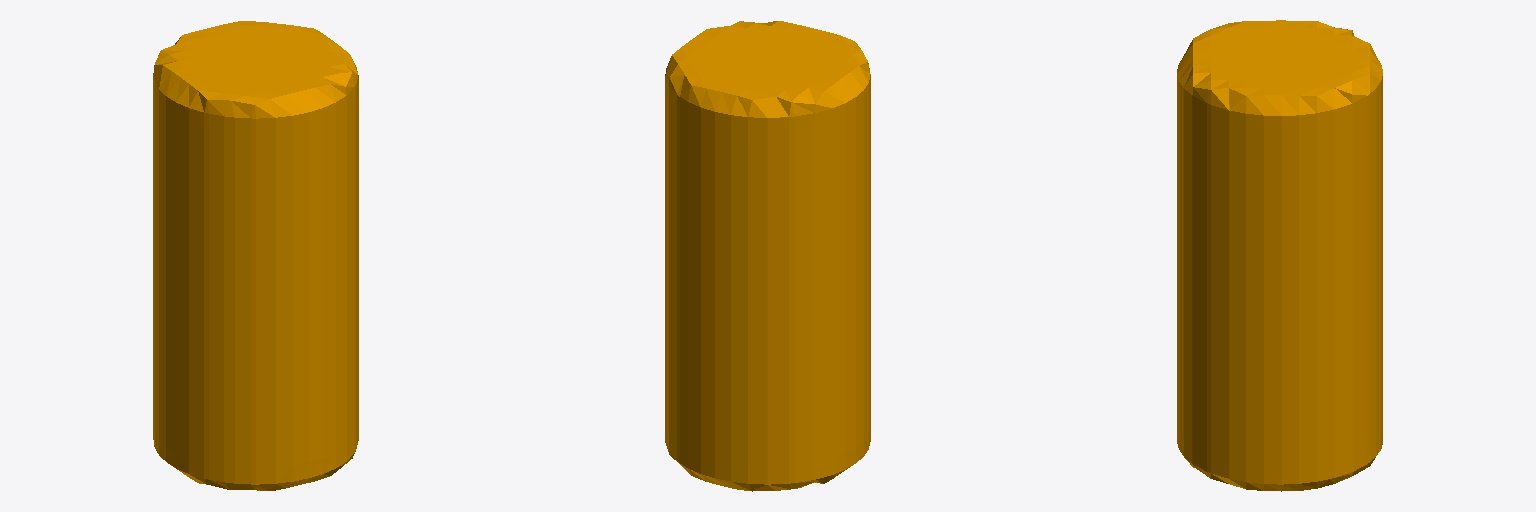
The robot description file, URDF, robot "cylinder_../../meshes/cylinders/cylinder_41.stl":
<?xml version="1.0" encoding="utf-8"?>  <robot name="cylinder_../../meshes/cylinders/cylinder_41.stl">   <link name="cylinder_../../meshes/cylinders/cylinder_41.stl">     <visual>       <geometry>         <mesh filename="../meshes/cylinders/cylinder_41.stl" scale="1 1 1"/>       </geometry>     </visual>     <collision>       <geometry>         <mesh filename="../meshes/cylinders/cylinder_41.stl" scale="1 1 1"/>       </geometry>     </collision>     <inertial>        <origin         xyz="0 0 0"         rpy="0 0 0" />       <mass value="0.32702881811720136"/>       <origin rpy="0 0 0" xyz="0 0 0"/>       <inertia ixx="0.00048011063550802805" ixy="-4.22379519873454e-08" ixz="1.059182965356772e-09" iyy="0.0004801109975731253" iyz="2.952421229043779e-08" izz="0.0001377373983963713"/>     </inertial>   </link>  </robot>

--- Render facts (derived) ---
The picture shows the robot from 3 angles, left to right: view 1: azimuth 30°, elevation 25°; view 2: azimuth 150°, elevation 25°; view 3: azimuth 270°, elevation 25°; orthographic projection.
Robot: cylinder_../../meshes/cylinders/cylinder_41.stl — 1 links, 0 joints (none); root link cylinder_../../meshes/cylinders/cylinder_41.stl; default pose: all joints at 0.
Links seen in each view (by area): view 1: cylinder_../../meshes/cylinders/cylinder_41.stl; view 2: cylinder_../../meshes/cylinders/cylinder_41.stl; view 3: cylinder_../../meshes/cylinders/cylinder_41.stl.
Boxes of the visible links, x1,y1,x2,y2 form: cylinder_../../meshes/cylinders/cylinder_41.stl: [153, 21, 358, 490]; cylinder_../../meshes/cylinders/cylinder_41.stl: [665, 21, 870, 491]; cylinder_../../meshes/cylinders/cylinder_41.stl: [1177, 20, 1382, 491].
Size in the robot's own frame: 0.0584 by 0.0584 by 0.1237 metres.
1 mesh visuals loaded from 1 distinct referenced files (1 binary STL).